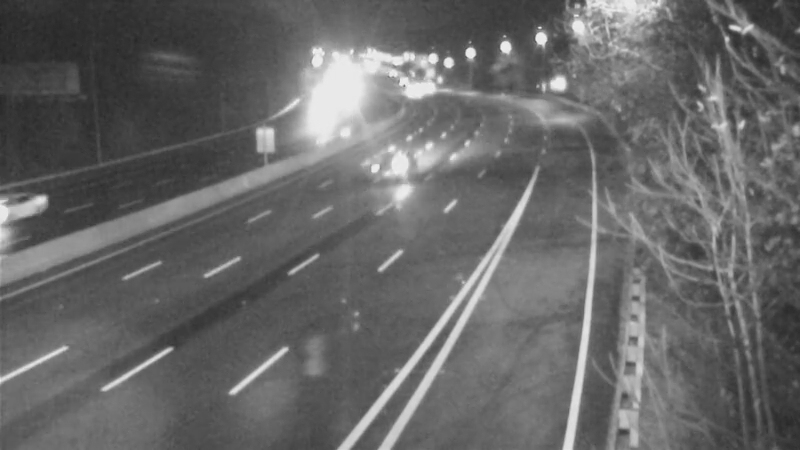vehicle: (348, 120, 428, 200), (1, 165, 69, 245), (405, 62, 455, 112), (388, 66, 438, 116)
